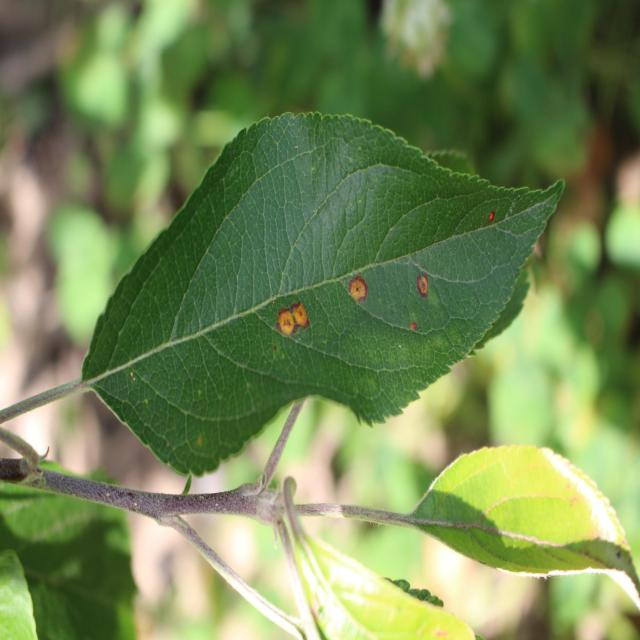Rust: (266, 269, 315, 352), (341, 265, 379, 352), (410, 246, 437, 324), (478, 204, 513, 243)
